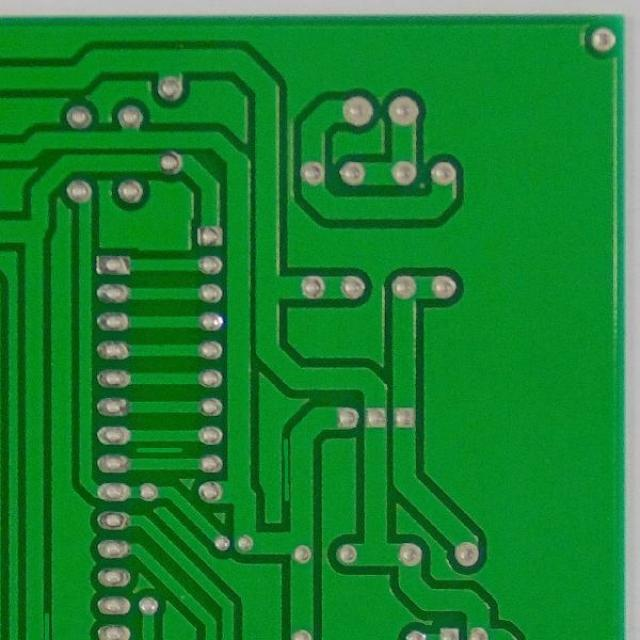Spurious_Cooper: (131, 443, 187, 456), (282, 435, 292, 504), (42, 607, 52, 640)
